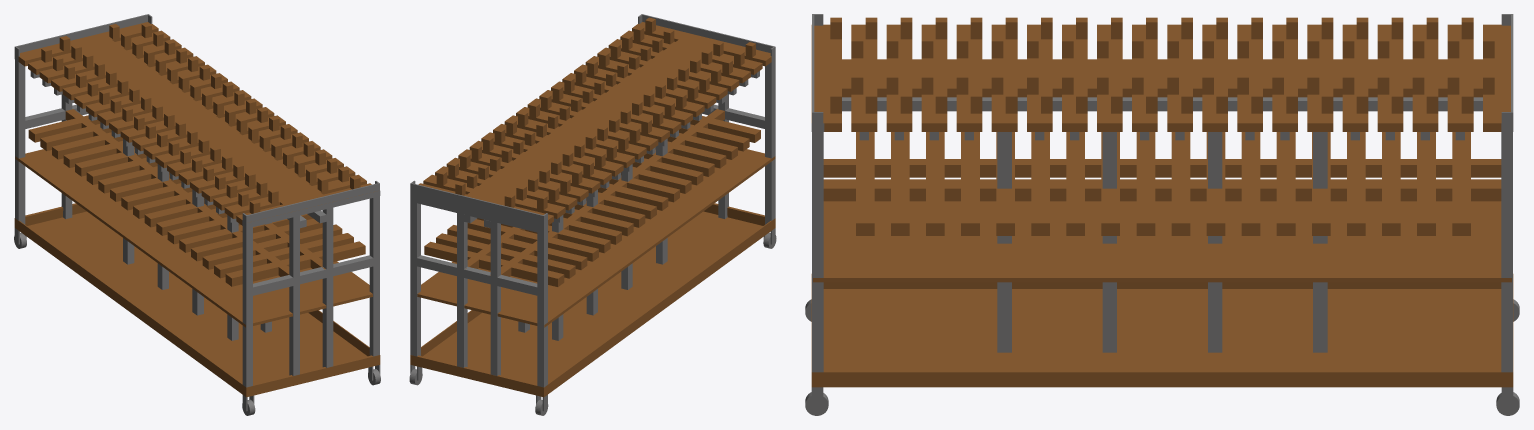
File: bladeCar.glb
3 views of the same model, side by side, from view 1: azimuth 30°, elevation 25°; view 2: azimuth 150°, elevation 25°; view 3: azimuth 270°, elevation 25° (orthographic). The views are drawn at different scales.
Visible parts, largest first — view 1: 平面.008, Cube, 平面.001, 平面, 立方体.003, 立方体.002, 立方体, 立方体.001, 平面.010, 平面.002, 平面.003, 立方体.006 (+2 smaller); view 2: 平面.008, Cube, 平面.001, 平面, 立方体.002, 立方体.003, 立方体, 立方体.001, 平面.003, 平面.010, 平面.002, 立方体.006 (+3 smaller); view 3: Cube, 平面.008, 平面, 平面.001, 平面.003, 立方体.002, 立方体.003, 立方体.006, 立方体, 平面.005, 平面.007, 柱体 (+1 smaller).
Part boxes in pixels (left/top/right/bottom): 平面.008: left=14, top=22, right=380, bottom=228; Cube: left=14, top=203, right=380, bottom=397; 平面.001: left=28, top=115, right=365, bottom=286; 平面: left=15, top=149, right=372, bottom=327; 立方体.003: left=59, top=24, right=328, bottom=203; 立方体.002: left=41, top=22, right=360, bottom=213; 立方体: left=15, top=65, right=379, bottom=387; 立方体.001: left=61, top=94, right=333, bottom=375; 平面.010: left=14, top=14, right=379, bottom=222; 平面.002: left=15, top=104, right=373, bottom=296; 平面.003: left=65, top=109, right=325, bottom=276; 立方体.006: left=123, top=139, right=271, bottom=340; 平面.008: left=410, top=22, right=775, bottom=228; Cube: left=410, top=203, right=775, bottom=397; 平面.001: left=424, top=116, right=760, bottom=286; 平面: left=417, top=149, right=775, bottom=327; 立方体.002: left=436, top=17, right=755, bottom=210; 立方体.003: left=455, top=29, right=723, bottom=207; 立方体: left=410, top=59, right=775, bottom=387; 立方体.001: left=457, top=94, right=728, bottom=375; 平面.003: left=465, top=108, right=724, bottom=276; 平面.010: left=410, top=14, right=775, bottom=222; 平面.002: left=417, top=104, right=775, bottom=297; 立方体.006: left=518, top=138, right=667, bottom=340; Cube: left=811, top=274, right=1513, bottom=387; 平面.008: left=811, top=24, right=1513, bottom=131; 平面: left=813, top=179, right=1511, bottom=282; 平面.001: left=856, top=132, right=1470, bottom=235; 平面.003: left=823, top=159, right=1501, bottom=201; 立方体.002: left=830, top=17, right=1473, bottom=113; 立方体.003: left=851, top=36, right=1494, bottom=94; 立方体.006: left=997, top=132, right=1327, bottom=352; 立方体: left=812, top=132, right=1512, bottom=372; 平面.005: left=842, top=97, right=1482, bottom=111; 平面.007: left=859, top=132, right=1464, bottom=140; 柱体: left=805, top=299, right=1519, bottom=415.
Size of the model in its own units: 1 by 1.47 by 3.06.
